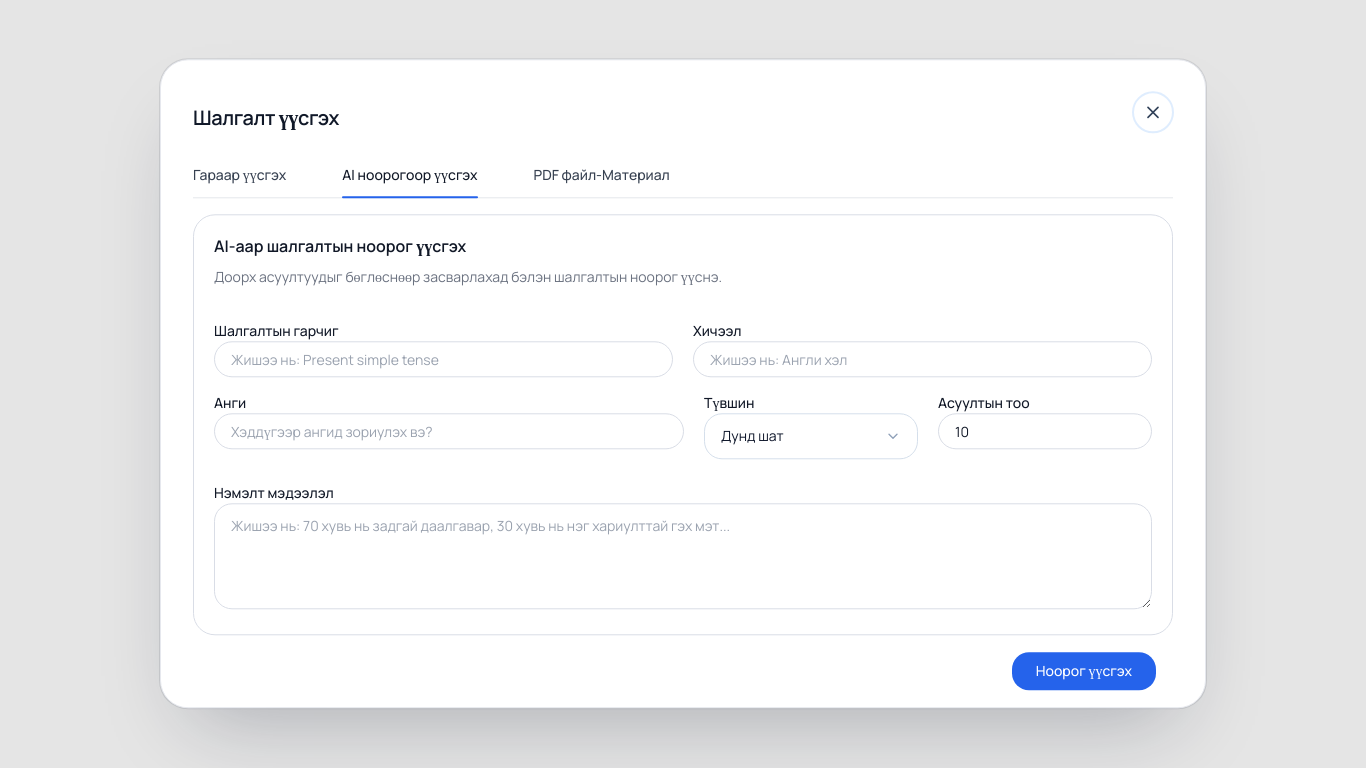
Test: CreateExamDialogContent › blocks manual navigation when the title is missing
Click the button "Гараар үүсгэх".
click(240, 181)  # box [193, 165, 286, 197]
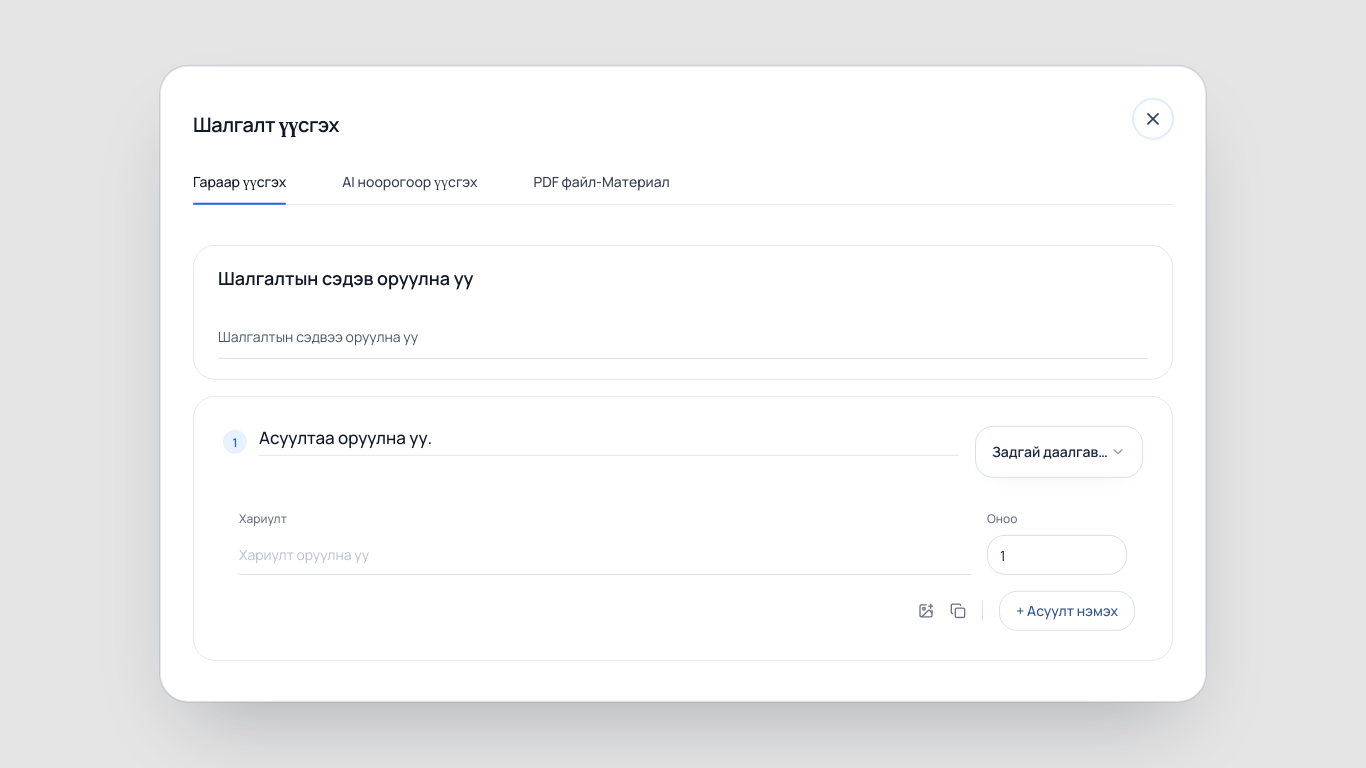
Type "What is 2 + 2?" into the field with placeholder "Асуултаа оруулна уу.".
click(609, 441); type("What is 2 + 2?")  # box [259, 426, 959, 455]
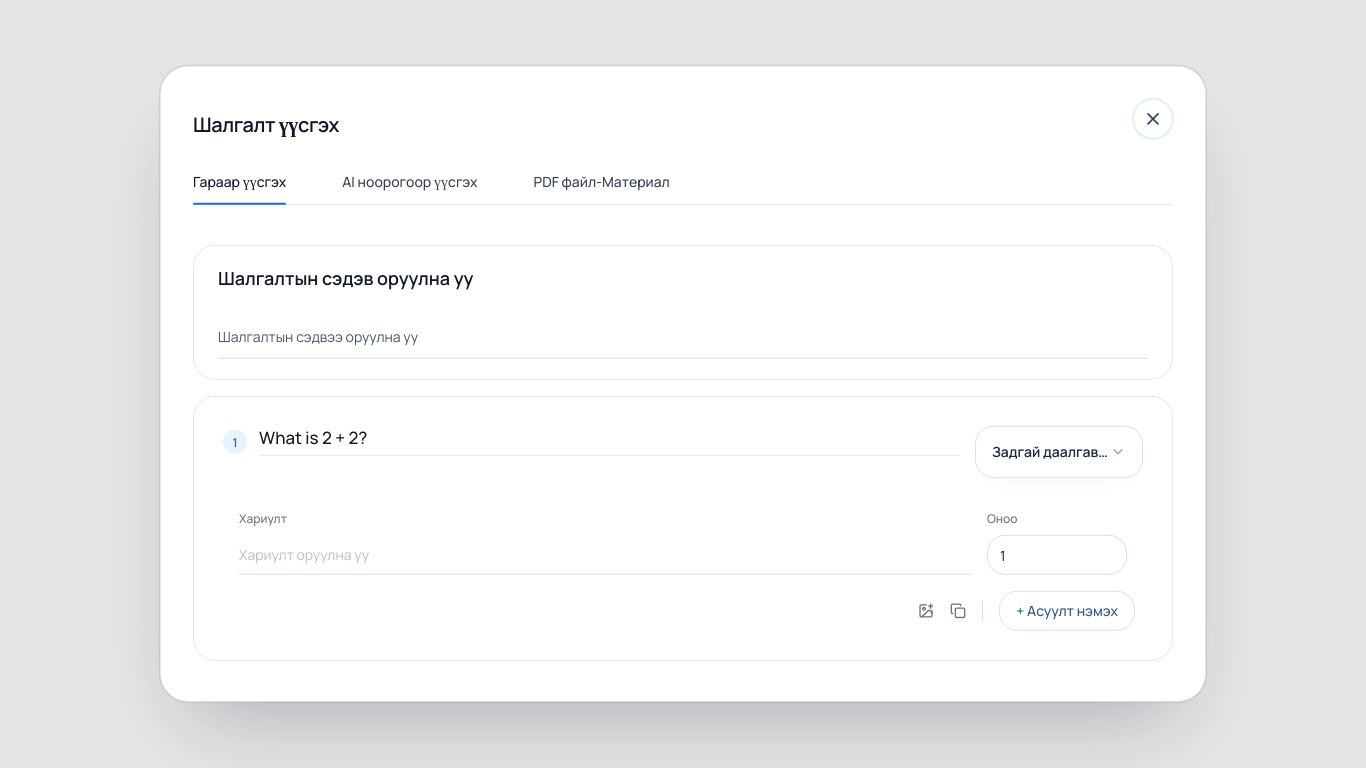
Type "4" into the field with placeholder "Хариулт оруулна уу".
click(605, 555); type("4")  # box [239, 535, 971, 575]
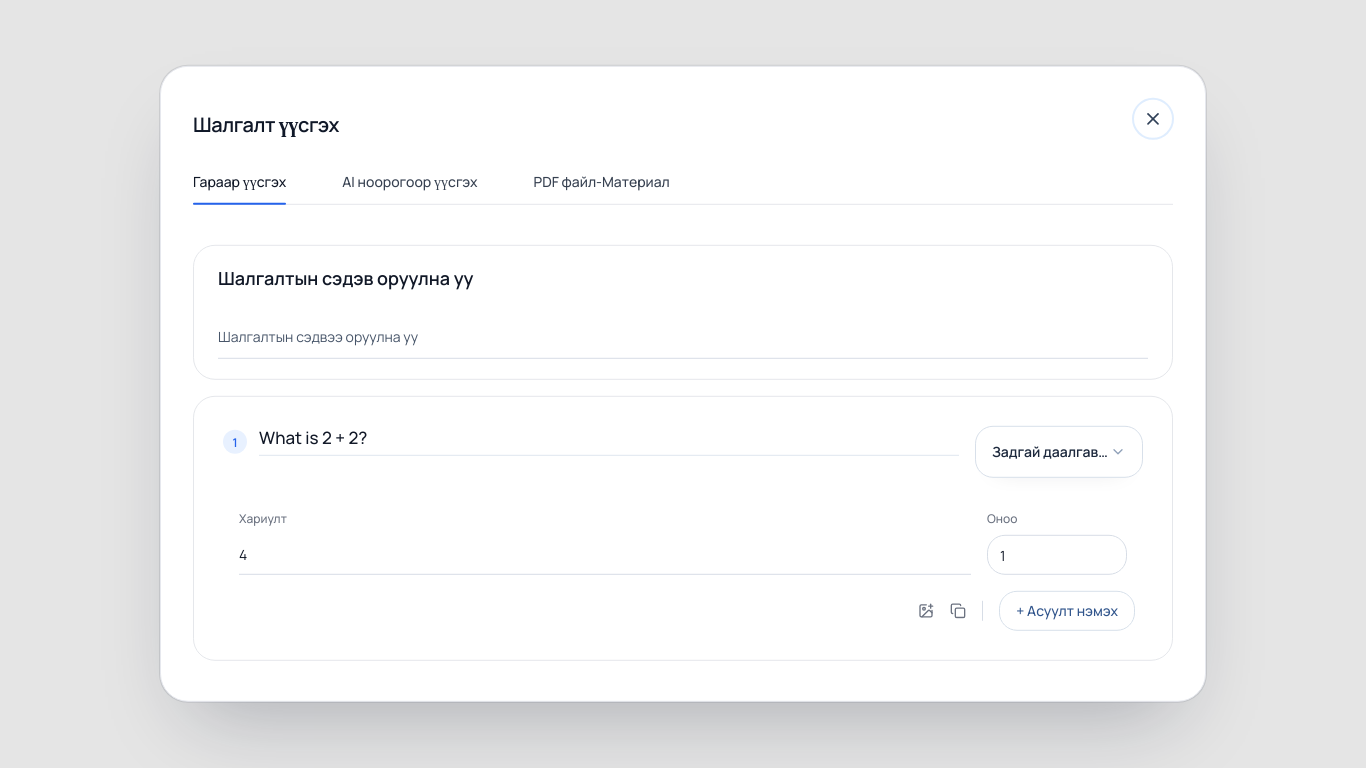
Click the button "+ Асуулт нэмэх".
click(1067, 611)  # box [999, 591, 1135, 631]
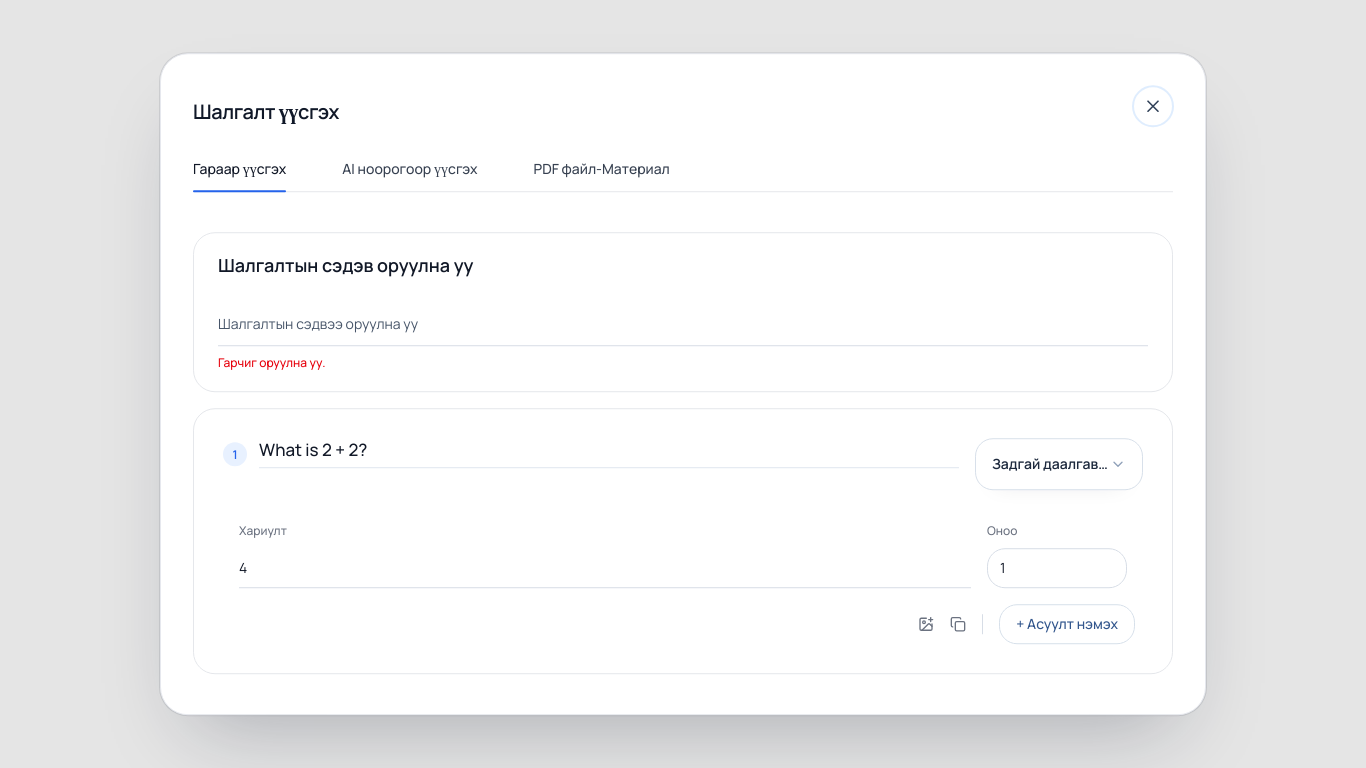
Now the text "Гарчиг оруулна уу." is shown, box [218, 354, 326, 372]
